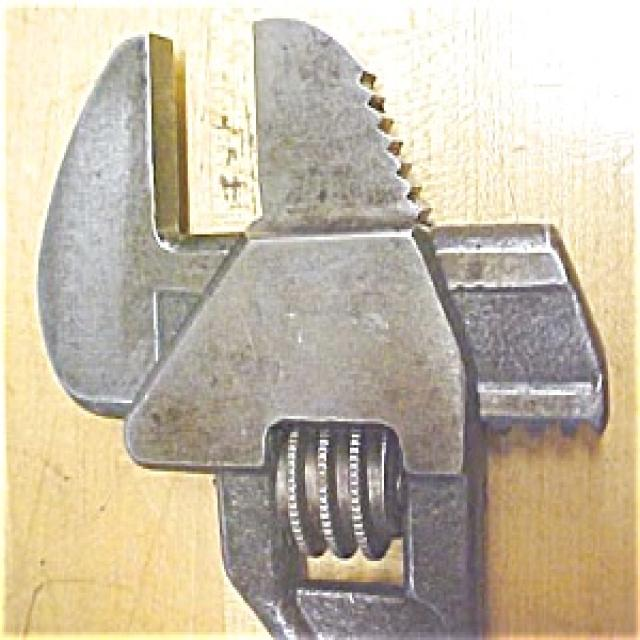wrench: (7, 7, 613, 617)
